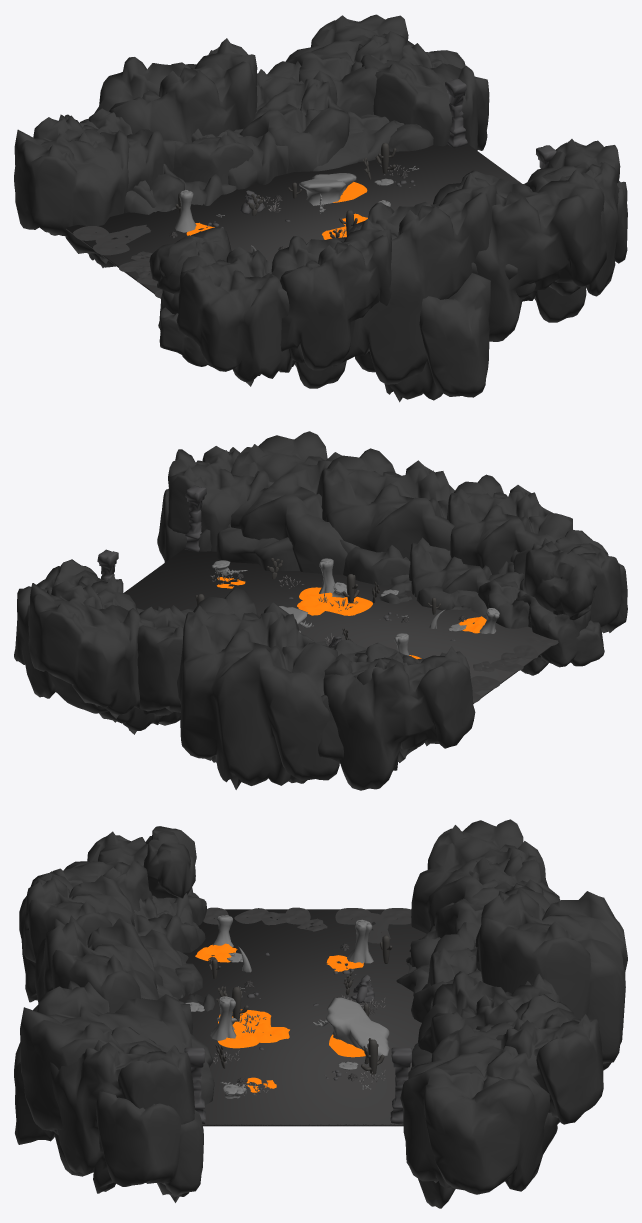
Rendered from Zones 4.fbx.
3 renders of one model, top to bottom at view 1: azimuth 30°, elevation 25°; view 2: azimuth 150°, elevation 25°; view 3: azimuth 270°, elevation 25°, orthographic. The views are drawn at different scales.
Parts seen in each view (by area): view 1: Zones.030, Zones.004, Zones.036, Zones.037, Zones.027, Zones.039; view 2: Zones.030, Zones.004, Zones.039, Zones.036, Zones.037, Zones.027; view 3: Zones.030, Zones.004, Zones.036, Zones.039, Zones.037, Zones.027, Zones.038.
Boxes of the visible parts, left/top/right/bottom form: Zones.030: left=14, top=14, right=627, bottom=402; Zones.004: left=66, top=144, right=521, bottom=298; Zones.036: left=174, top=173, right=393, bottom=232; Zones.037: left=207, top=78, right=556, bottom=228; Zones.027: left=175, top=143, right=396, bottom=249; Zones.039: left=186, top=182, right=367, bottom=239; Zones.030: left=14, top=431, right=627, bottom=790; Zones.004: left=123, top=548, right=558, bottom=703; Zones.039: left=217, top=577, right=486, bottom=659; Zones.036: left=212, top=558, right=499, bottom=655; Zones.037: left=97, top=485, right=455, bottom=647; Zones.027: left=195, top=558, right=440, bottom=639; Zones.030: left=14, top=819, right=627, bottom=1208; Zones.004: left=178, top=907, right=426, bottom=1126; Zones.036: left=185, top=915, right=389, bottom=1098; Zones.039: left=195, top=943, right=365, bottom=1092; Zones.037: left=184, top=952, right=411, bottom=1123; Zones.027: left=208, top=935, right=392, bottom=1074; Zones.038: left=213, top=995, right=385, bottom=1096.
Bounding box in the file's own units: 12313 × 12418 × 5266.
